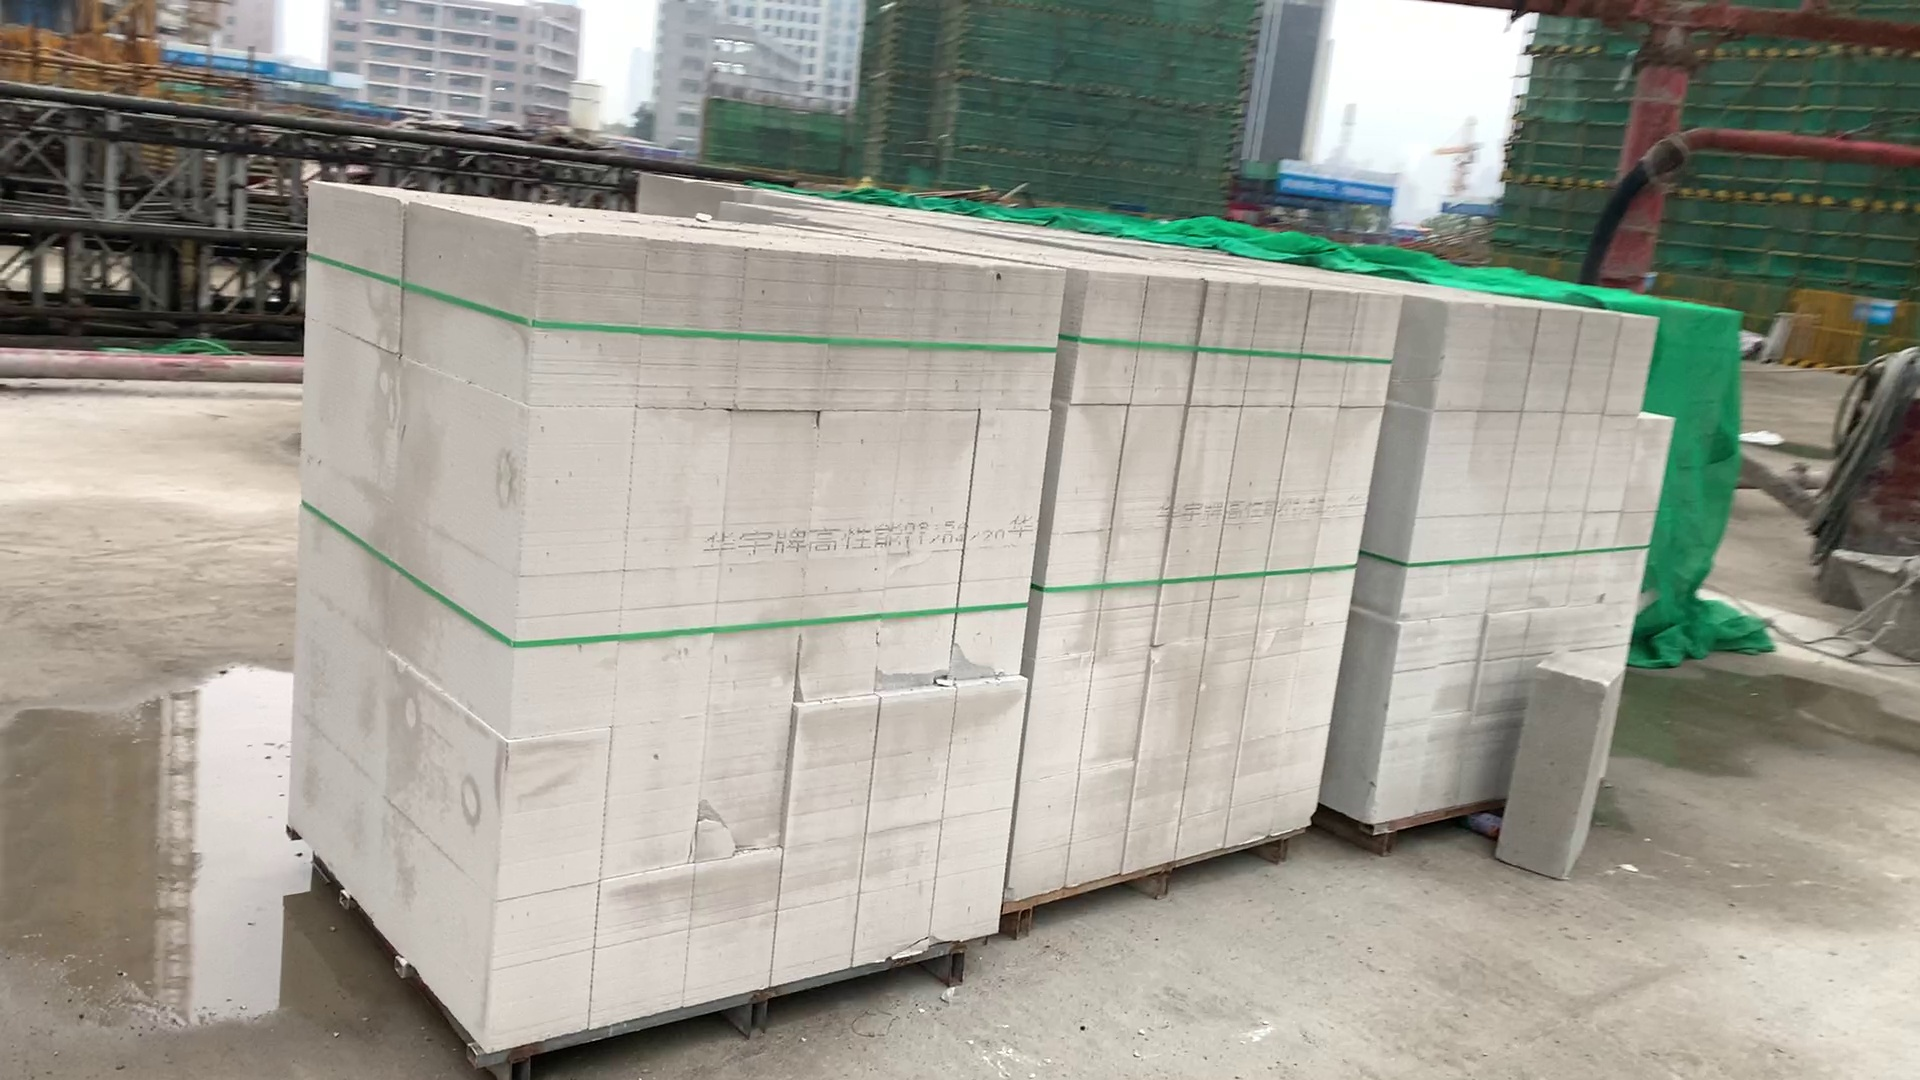brickwork: (492, 239, 1044, 1056), (1034, 266, 1379, 916), (1385, 281, 1640, 853)
